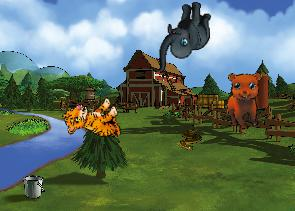bear: (220, 67, 272, 132)
elephant: (154, 1, 212, 72)
tiger: (60, 91, 126, 152)
